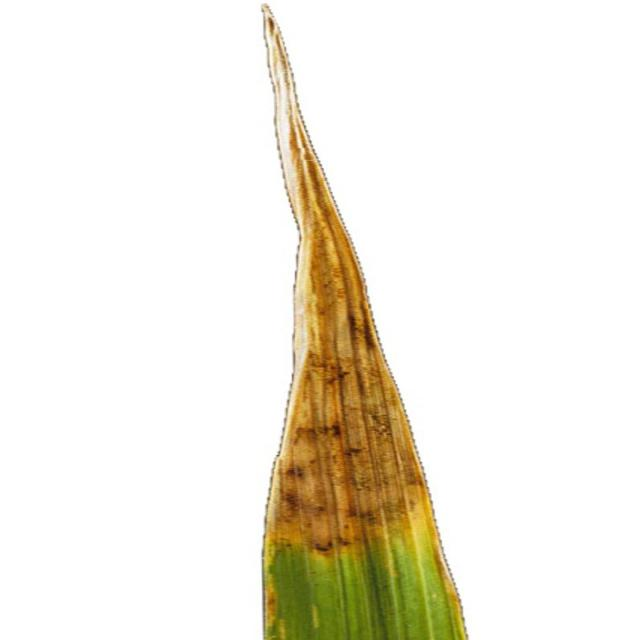Leaf scald: (133, 4, 522, 627)
